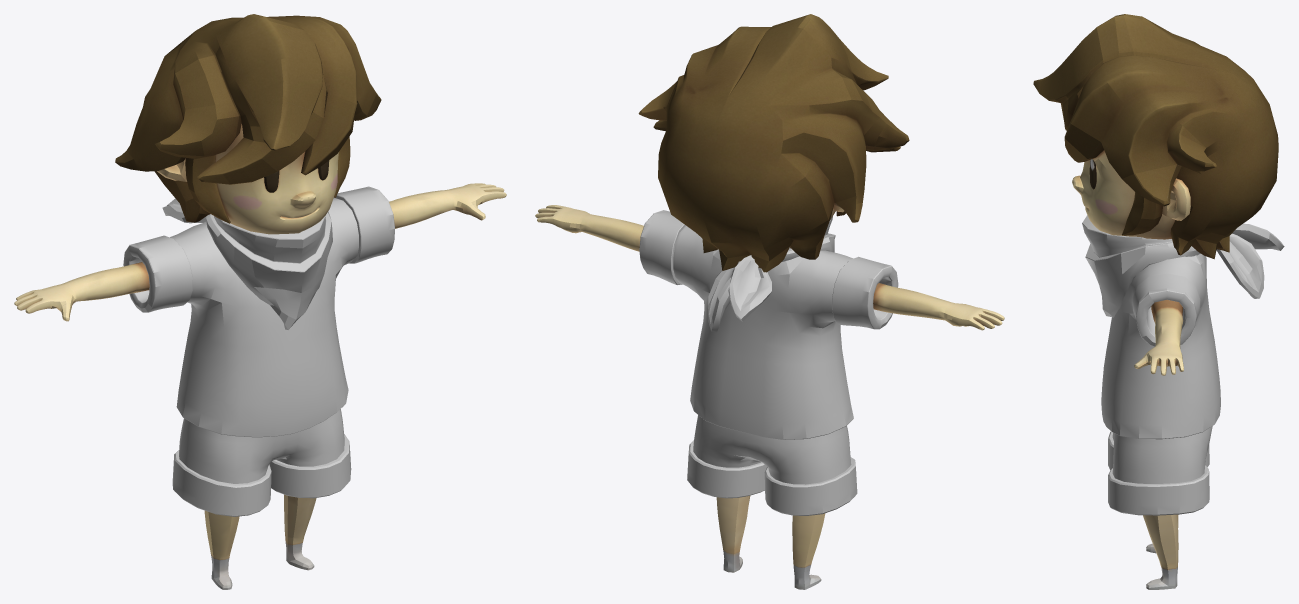
Rendered from thomas.fbx.
3 renders of one model, left to right at view 1: azimuth 30°, elevation 25°; view 2: azimuth 150°, elevation 25°; view 3: azimuth 270°, elevation 25°, orthographic. The views are drawn at different scales.
Visible parts, largest first — view 1: outfit, body; view 2: body, outfit; view 3: body, outfit.
Part boxes in pixels (x1=…): outfit: x1=123, y1=186, x2=394, y2=516; body: x1=14, y1=14, x2=506, y2=589; body: x1=535, y1=14, x2=1004, y2=589; outfit: x1=639, y1=210, x2=898, y2=515; body: x1=1033, y1=14, x2=1278, y2=589; outfit: x1=1082, y1=215, x2=1284, y2=515.
Size of the model in its own units: 50.65 by 57.34 by 23.93.
